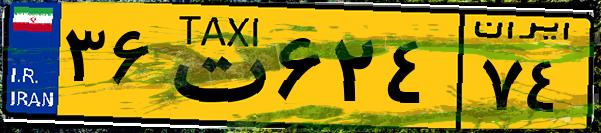2: (330, 28, 385, 110)
3: (57, 26, 110, 100)
4: (385, 28, 445, 110), (525, 38, 570, 115)
6: (270, 28, 330, 110), (110, 28, 158, 98)
7: (475, 38, 525, 113)
ت: (158, 12, 270, 120)
